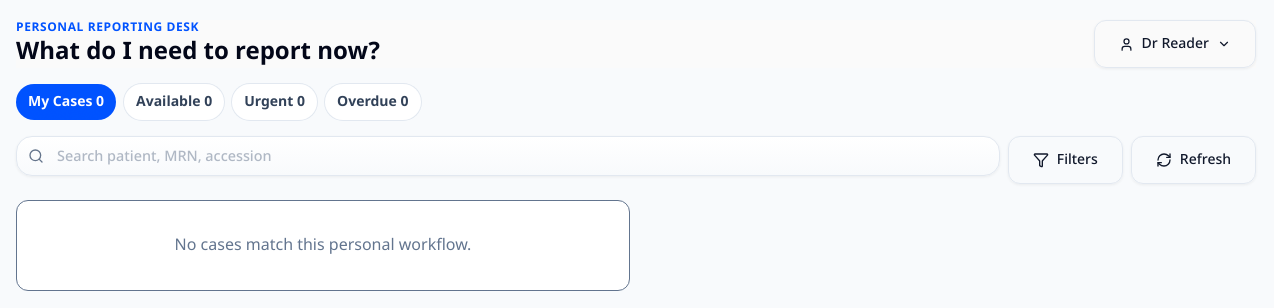
Scenario: Personal Reporting Desk authentication and current-device notifications › shows blocked permission without requesting permission again
Expected: the text "Personal Reporting Desk" is shown, [16,15,199,40]
Click the button "Dr Reader" at coordinates (1175, 44), box [1094,20,1256,68]
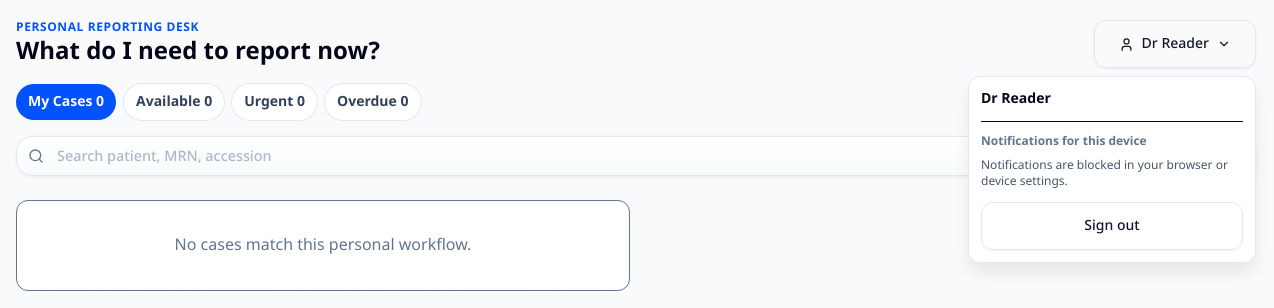
Expected: the text "Notifications are blocked in your browser or device settings." is shown, [981,158,1243,190]
